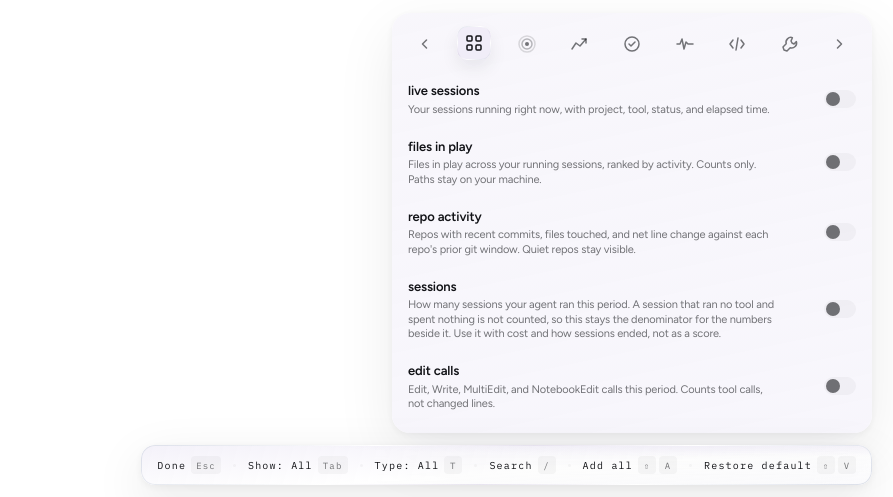
Test: hover card › carries the caption for a widget the date picker does not reach
Hover over the element that starts with "live sessions" at (444,90), box [408,83,856,116]
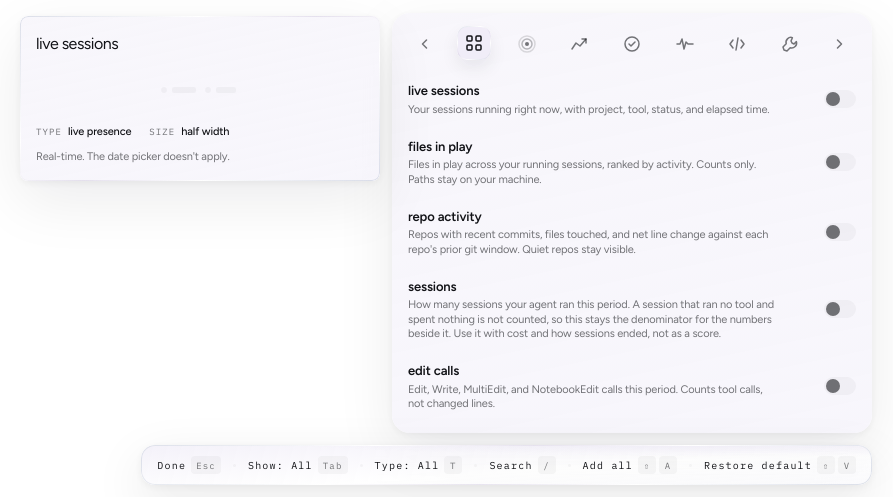
expect the text "Real-time. The date picker doesn't apply." is shown: met, box [36,150,230,163]
Hover over the element that starts with "repo activity" at (632,232), box [400,197,864,267]
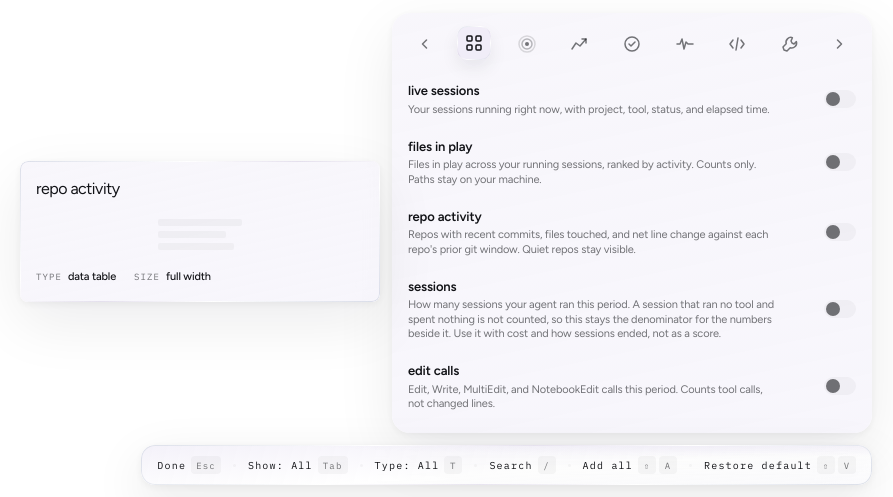
expect the text "The date picker doesn't apply." is gone: met
